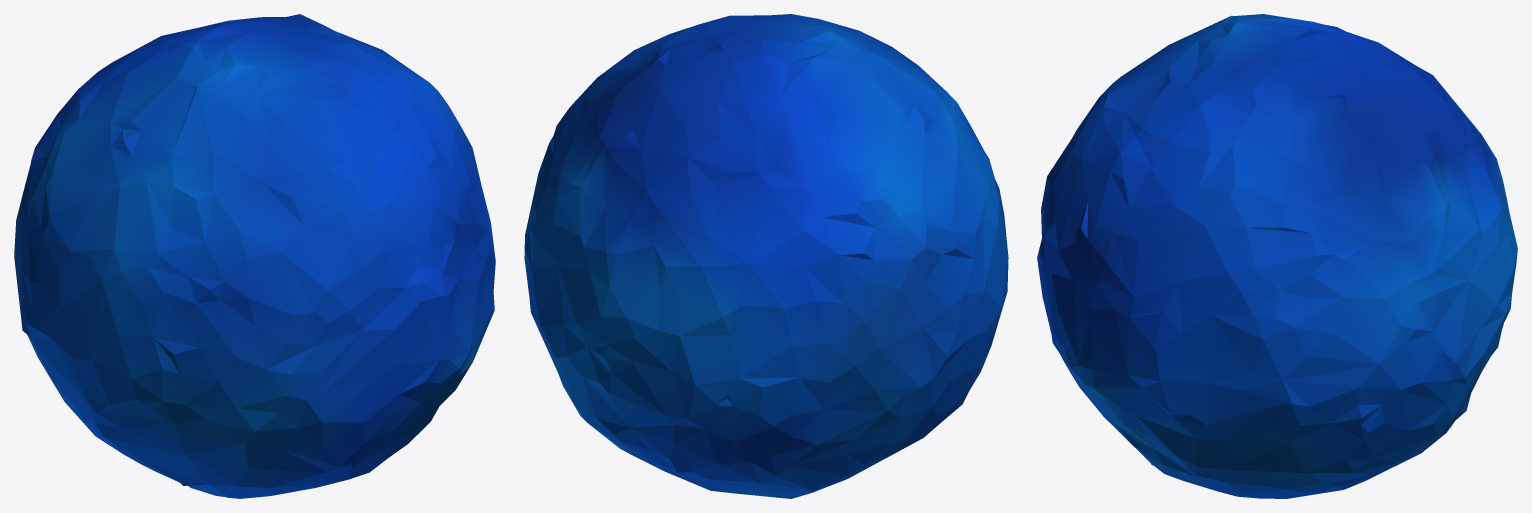
The model's file is Planet_OceanFlow.fbx.
The picture shows the model from 3 angles, left to right: view 1: azimuth 30°, elevation 25°; view 2: azimuth 150°, elevation 25°; view 3: azimuth 270°, elevation 25°; orthographic projection.
Visible parts, largest first — view 1: Planet.OceanFlow; view 2: Planet.OceanFlow; view 3: Planet.OceanFlow.
Boxes of the visible parts, x1=… form: Planet.OceanFlow: x1=14, y1=14, x2=495, y2=498; Planet.OceanFlow: x1=524, y1=14, x2=1008, y2=498; Planet.OceanFlow: x1=1037, y1=14, x2=1517, y2=498.
Size of the model in its own units: 74981 by 75946 by 75557.
